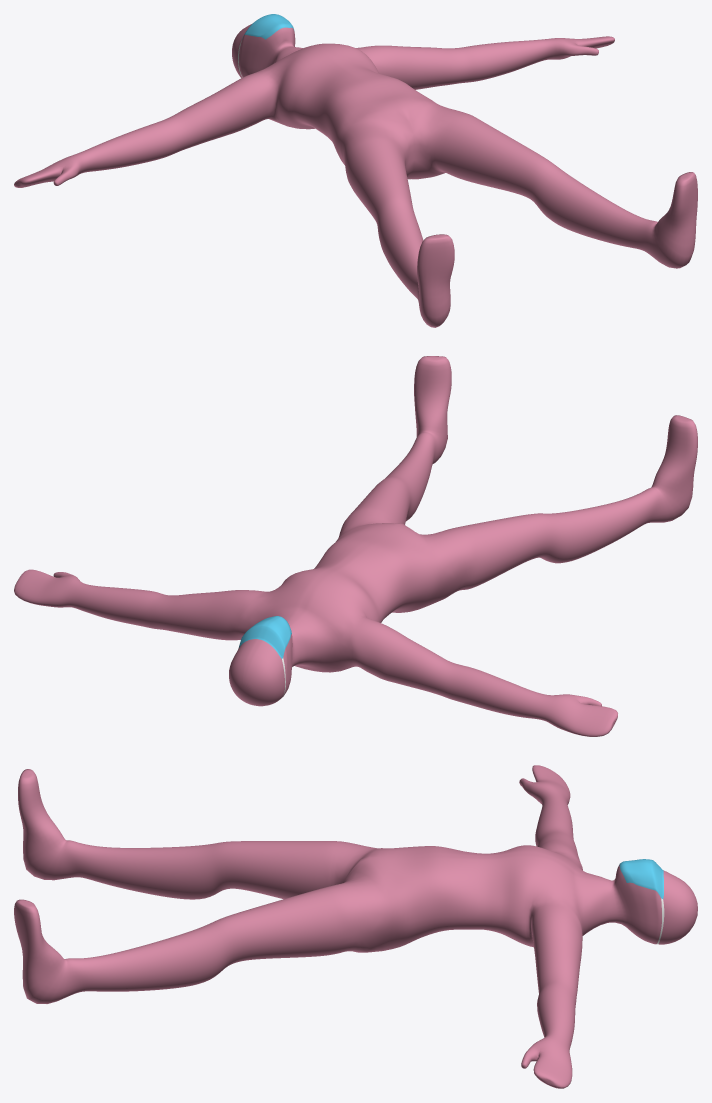
The model's file is Macy_Laying pose.fbx.
The picture shows the model from 3 angles, top to bottom: view 1: azimuth 30°, elevation 25°; view 2: azimuth 150°, elevation 25°; view 3: azimuth 270°, elevation 25°; orthographic projection. The views are drawn at different scales.
Visible parts, largest first — view 1: model_3:_walk1_skin; view 2: model_3:_walk1_skin; view 3: model_3:_walk1_skin.
Part boxes in pixels (left/top/right/bottom): model_3:_walk1_skin: left=14, top=14, right=697, bottom=327; model_3:_walk1_skin: left=14, top=356, right=697, bottom=736; model_3:_walk1_skin: left=14, top=765, right=697, bottom=1088.
Bounding box in the file's own units: 229 × 35.64 × 214.
